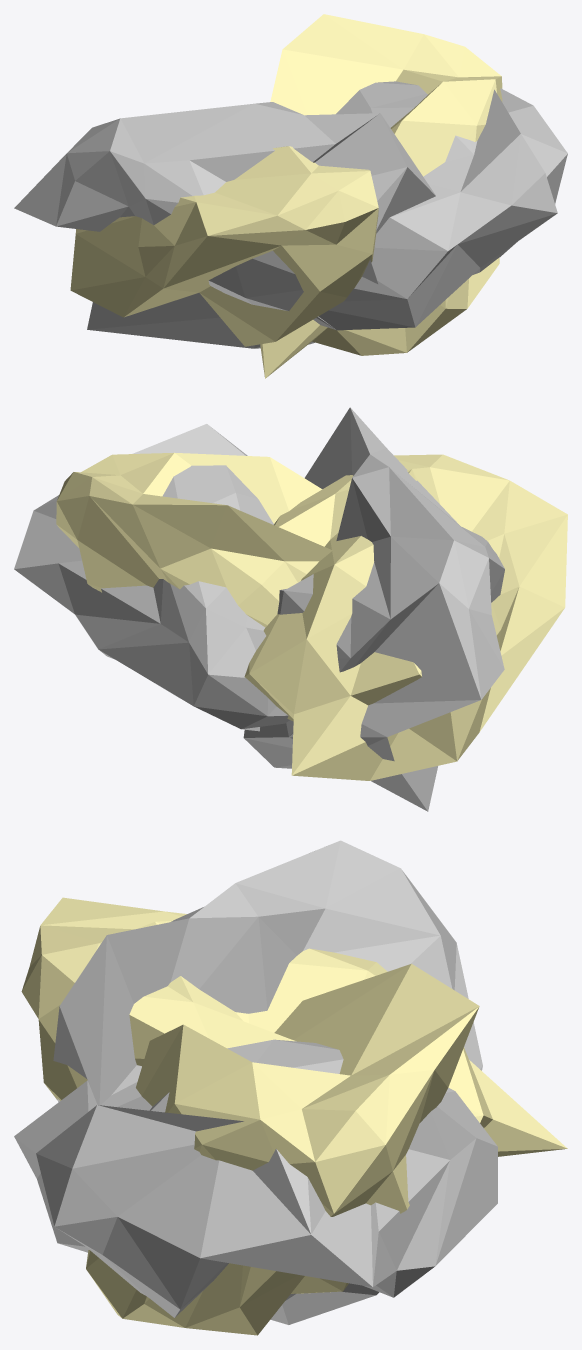
Rendered from stone_00000.fbx.
3 views of the same model, one above another, from view 1: azimuth 30°, elevation 25°; view 2: azimuth 150°, elevation 25°; view 3: azimuth 270°, elevation 25° (orthographic). The views are drawn at different scales.
Parts seen in each view (by area): view 1: stone; view 2: stone; view 3: stone.
Part boxes in pixels (x1=…): stone: x1=14, y1=14, x2=567, y2=378; stone: x1=14, y1=407, x2=567, y2=811; stone: x1=14, y1=840, x2=567, y2=1335.
Bounding box in the file's own units: 448 × 252 × 319.
